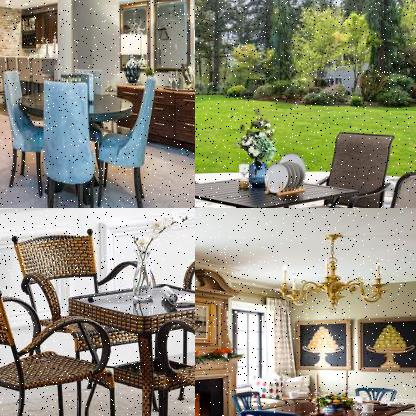table: (64, 280, 194, 415), (13, 87, 138, 207), (218, 391, 415, 415)
